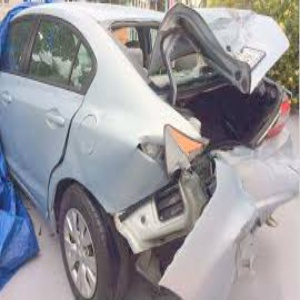bonnet: (40, 105, 121, 217)
